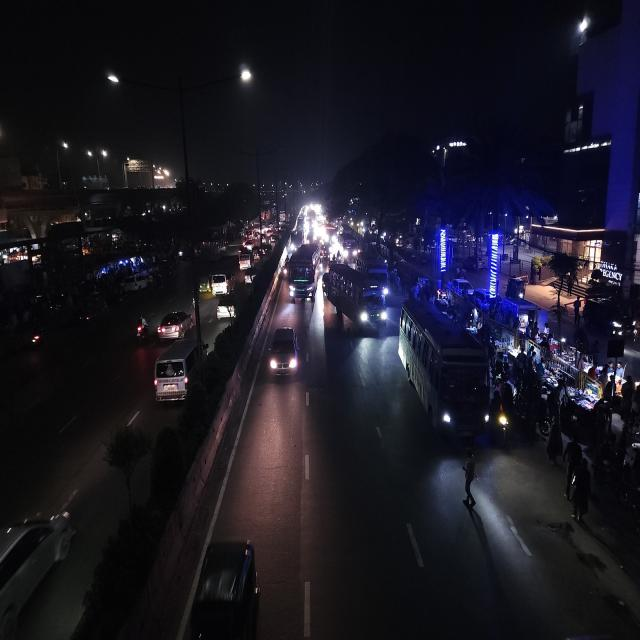bus: (398, 296, 492, 451), (324, 260, 389, 338), (283, 240, 321, 304), (198, 229, 228, 259), (340, 232, 359, 258)
car: (0, 496, 80, 640), (152, 336, 208, 409), (267, 324, 300, 383), (156, 308, 193, 342), (215, 291, 241, 322), (238, 248, 252, 270), (243, 266, 257, 287), (212, 274, 226, 292), (254, 246, 264, 263)
cng: (201, 277, 210, 294)
motorcycle: (488, 387, 511, 447), (134, 311, 150, 344)
pedestrian: (457, 448, 481, 513), (569, 461, 593, 524)
